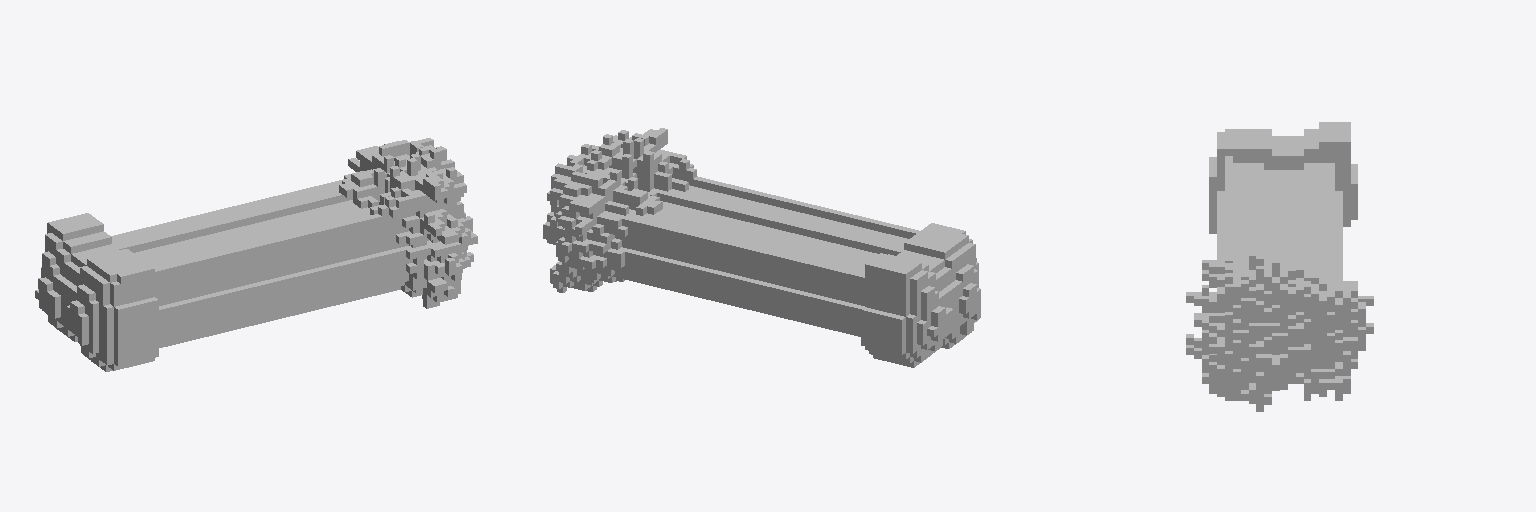
The model's file is Bone.obj.
3 renders of one model, left to right at view 1: azimuth 30°, elevation 25°; view 2: azimuth 150°, elevation 25°; view 3: azimuth 270°, elevation 25°, orthographic.
Parts seen in each view (by area): view 1: Bone; view 2: Bone; view 3: Bone.
Boxes of the visible parts, <box> form: Bone: <box>35,138,477,371</box>; Bone: <box>543,128,980,367</box>; Bone: <box>1186,122,1373,411</box>.
Size of the model in its own units: 57 by 20 by 24.